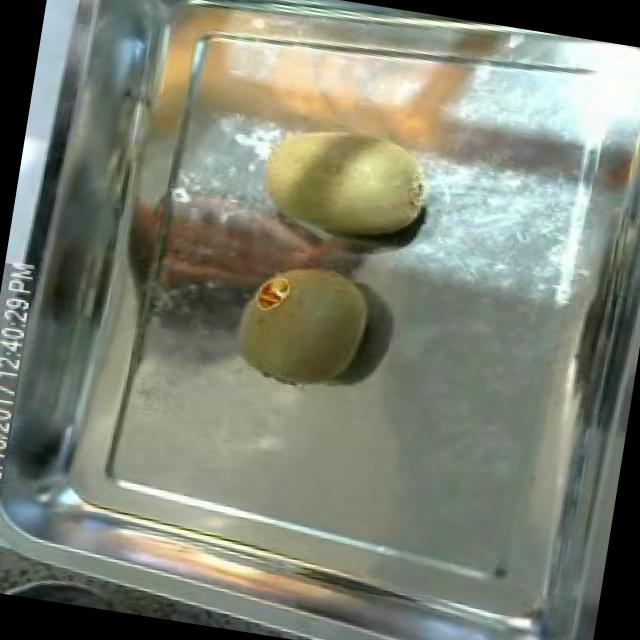Fruit: (242, 108, 446, 262), (218, 245, 389, 402)
